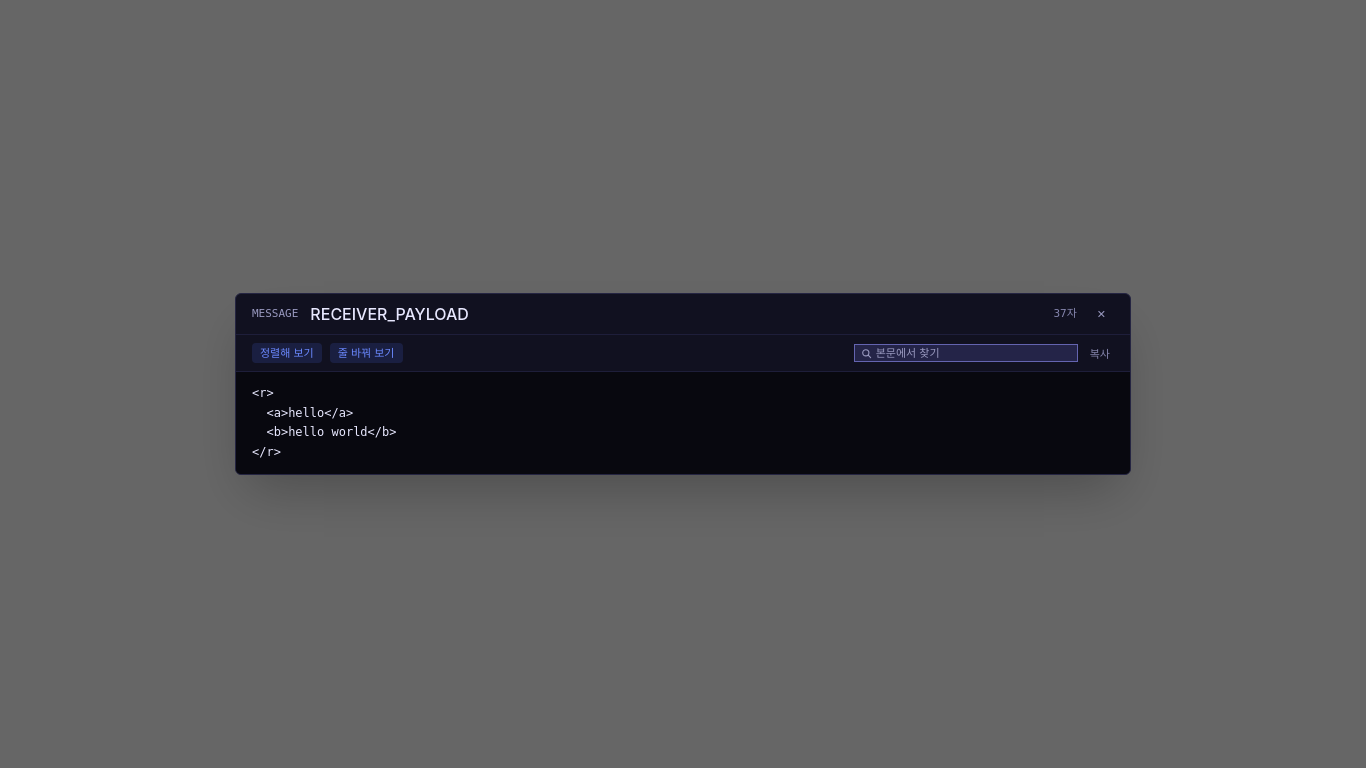
Test case: 본문 전체 보기 › 본문 안에서 찾고 몇 번째인지 말한다
This screenshot has width=1366, height=768.
Type "hello" into the field labelled "본문에서 찾기" at (966, 353), box [854,344,1078,362]
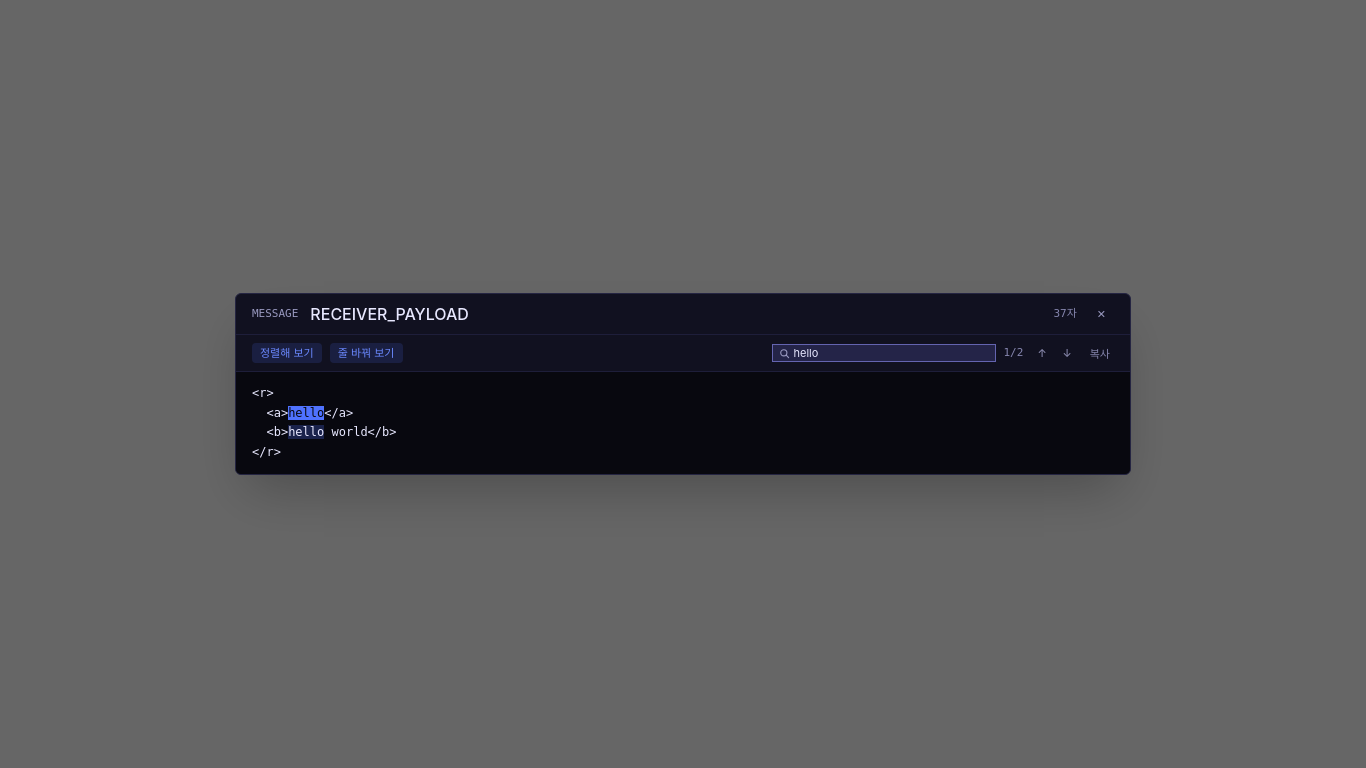
expect the text "1/2" is shown: met, box [1004,345,1023,361]
Click the button named "다음 적중" at (1067, 353), box [1057,345,1078,361]
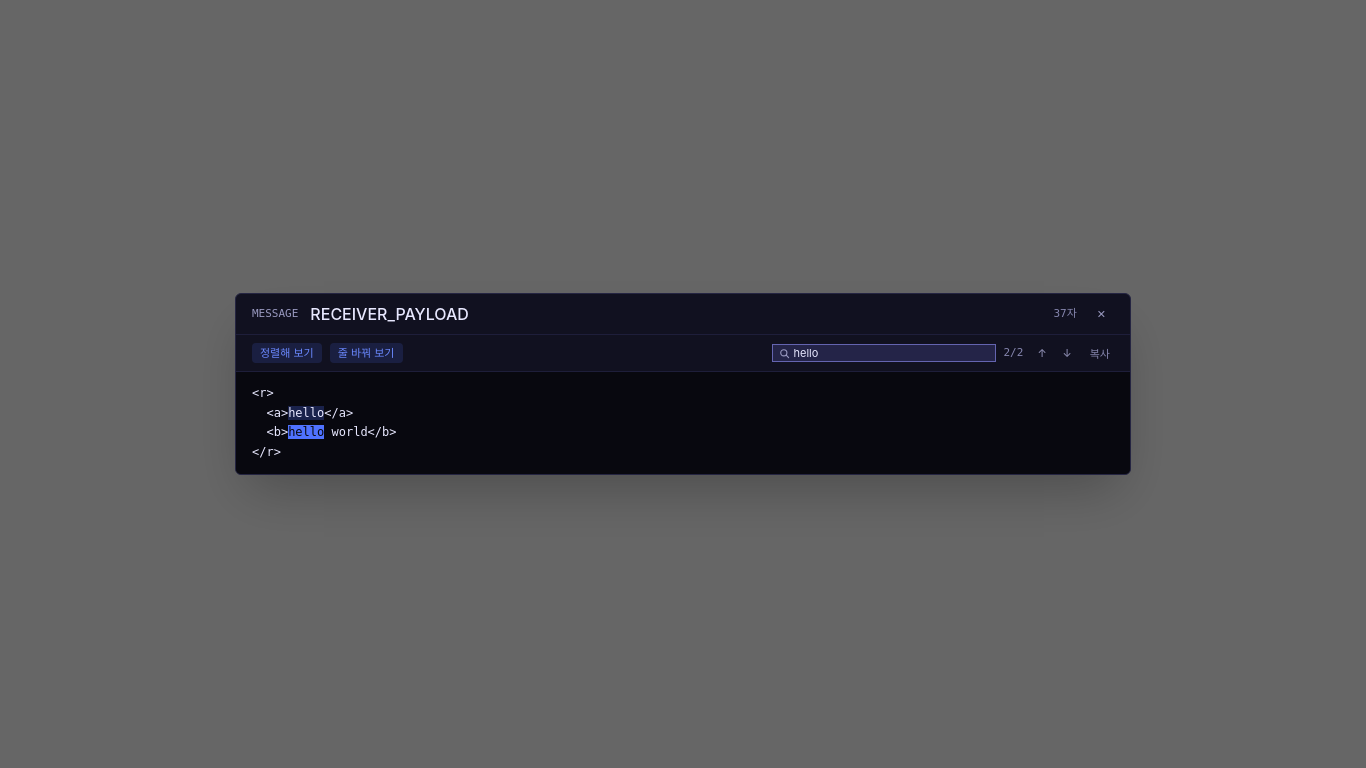
expect the text "2/2" is shown: met, box [1004,345,1023,361]
끝에서 한 번 더 누르면 처음으로 돈다 — 막다른 길에서 멈추면 다시 칠 수밖에 없다.
Click the button named "다음 적중" at (1067, 353), box [1057,345,1078,361]
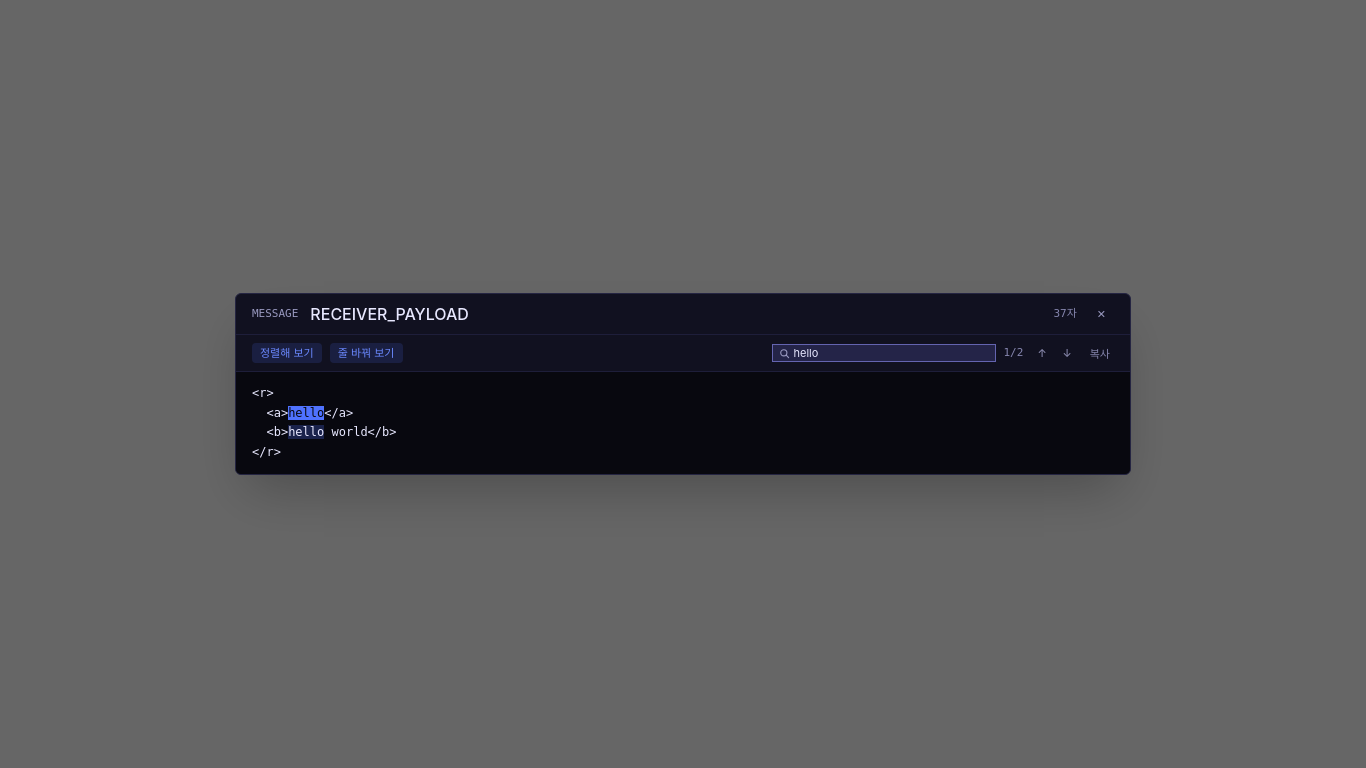
expect the text "1/2" is shown: met, box [1004,345,1023,361]
